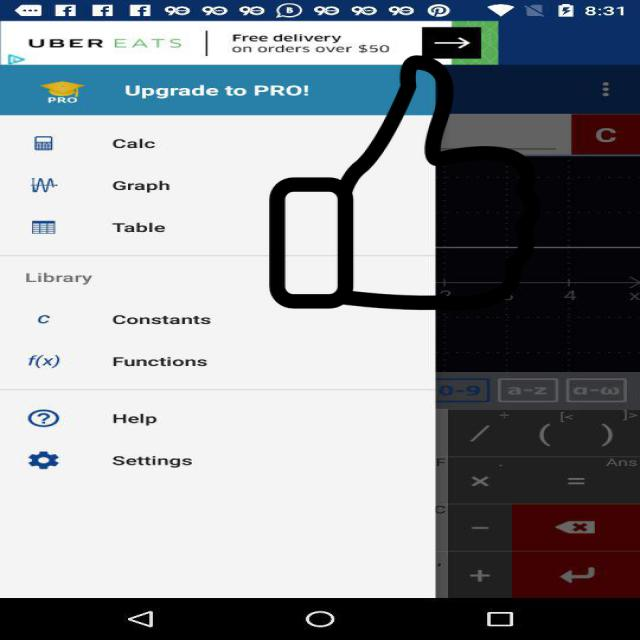privacy zuckering: (265, 55, 544, 311)
